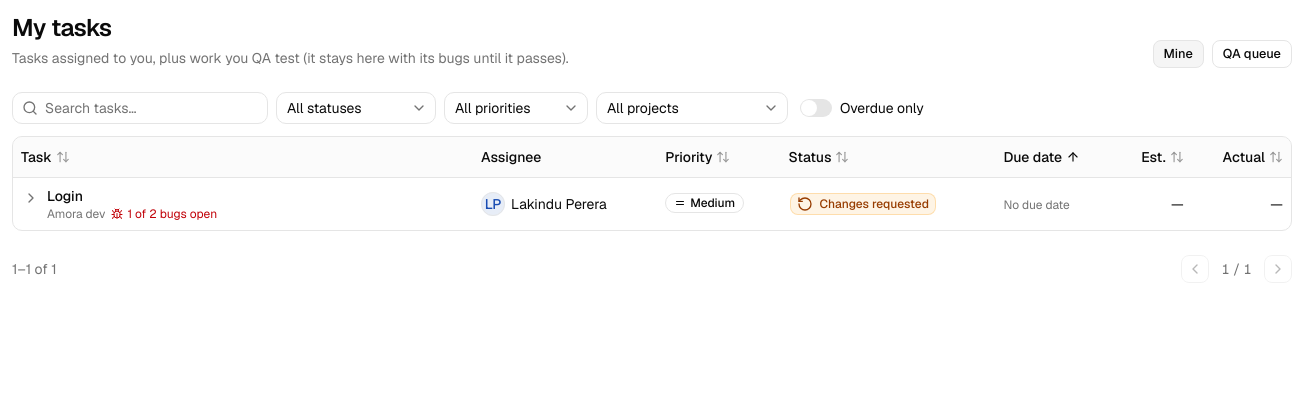
Scenario: Bugs under a task › expands a tested task to show the bugs QA reported on it
This screenshot has width=1304, height=404.
Expected: the text "1 of 2 bugs open" is shown, [112,206,217,222]
Expected: the text "Password accepts empty value" is not shown
Click the button named "Show bugs for Login" at (31, 198), box [21,188,41,208]
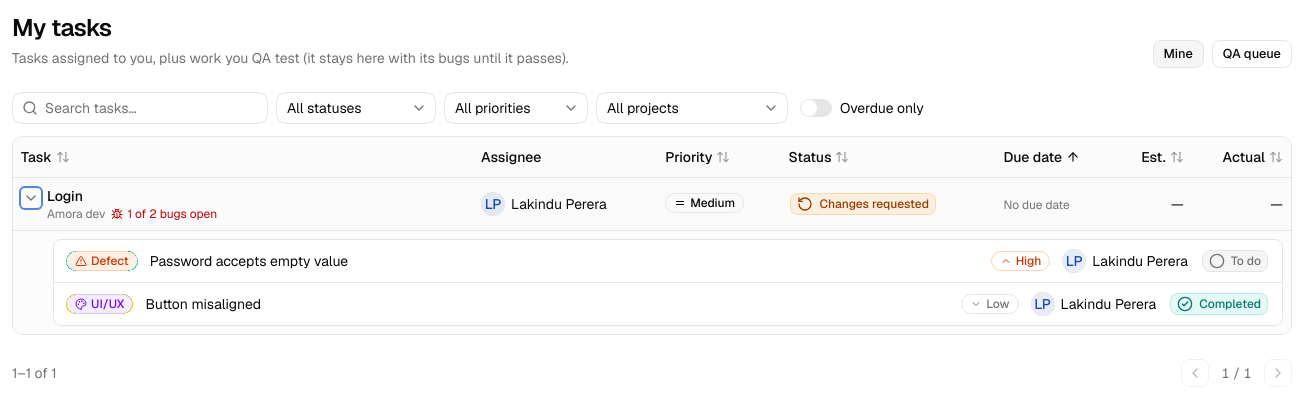
Expected: the link "Button misaligned" is shown, [145,294,261,312]
Expected: the button named "Hide bugs for Login" is expanded, [21,188,41,208]
